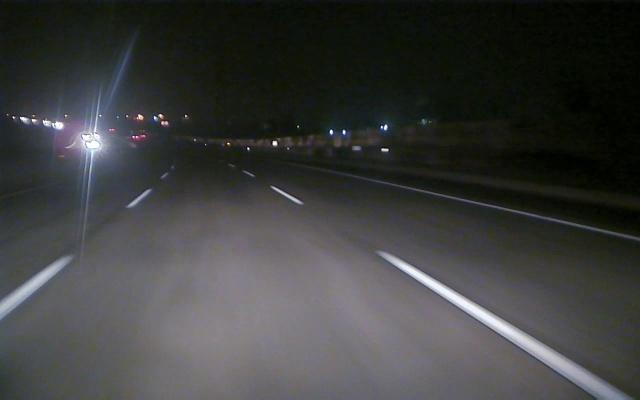lane: (244, 170, 627, 399), (1, 191, 149, 319), (371, 178, 640, 242)
